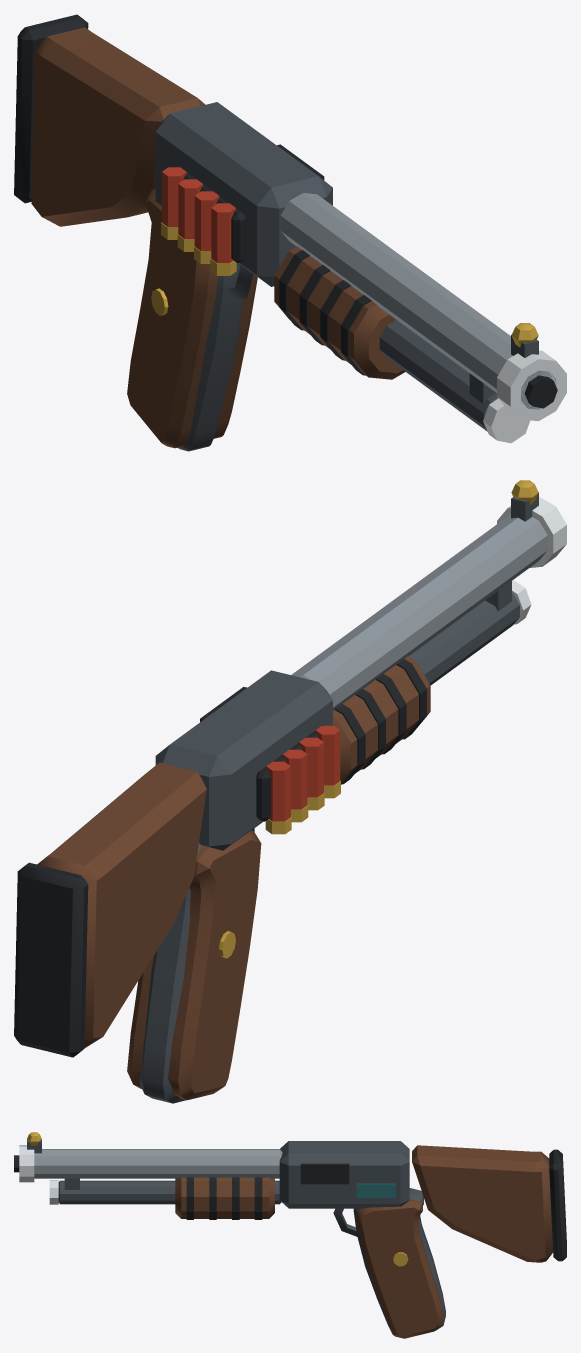
Rendered from Weapon_PumpShotgun.fbx.
3 renders of one model, top to bottom at view 1: azimuth 30°, elevation 25°; view 2: azimuth 150°, elevation 25°; view 3: azimuth 270°, elevation 25°, orthographic. The views are drawn at different scales.
Parts seen in each view (by area): view 1: Shotgun; view 2: Shotgun; view 3: Shotgun.
Part boxes in pixels (left/top/right/bottom): Shotgun: left=14, top=14, right=566, bottom=451; Shotgun: left=14, top=480, right=566, bottom=1103; Shotgun: left=14, top=1132, right=566, bottom=1338.
Bounding box in the file's own units: 0.4316 × 1.49 × 3.65.
